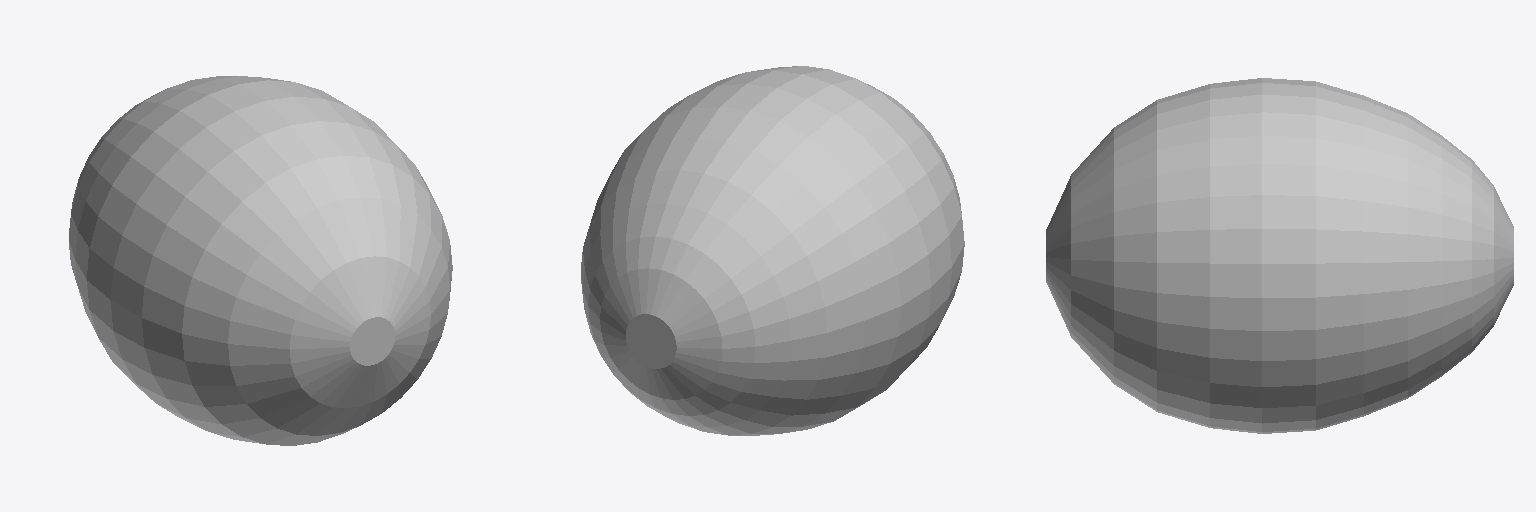
The model's file is novoovo.obj.
The picture shows the model from 3 angles: view 1: azimuth 30°, elevation 25°; view 2: azimuth 150°, elevation 25°; view 3: azimuth 270°, elevation 25°; orthographic projection.
Visible parts, largest first — view 1: Circle.001; view 2: Circle.001; view 3: Circle.001.
Boxes of the visible parts, x1=… form: Circle.001: x1=69, y1=76, x2=452, y2=445; Circle.001: x1=581, y1=66, x2=964, y2=435; Circle.001: x1=1046, y1=78, x2=1513, y2=433.
Bounding box in the file's own units: 0.6986 × 0.6986 × 0.9156.